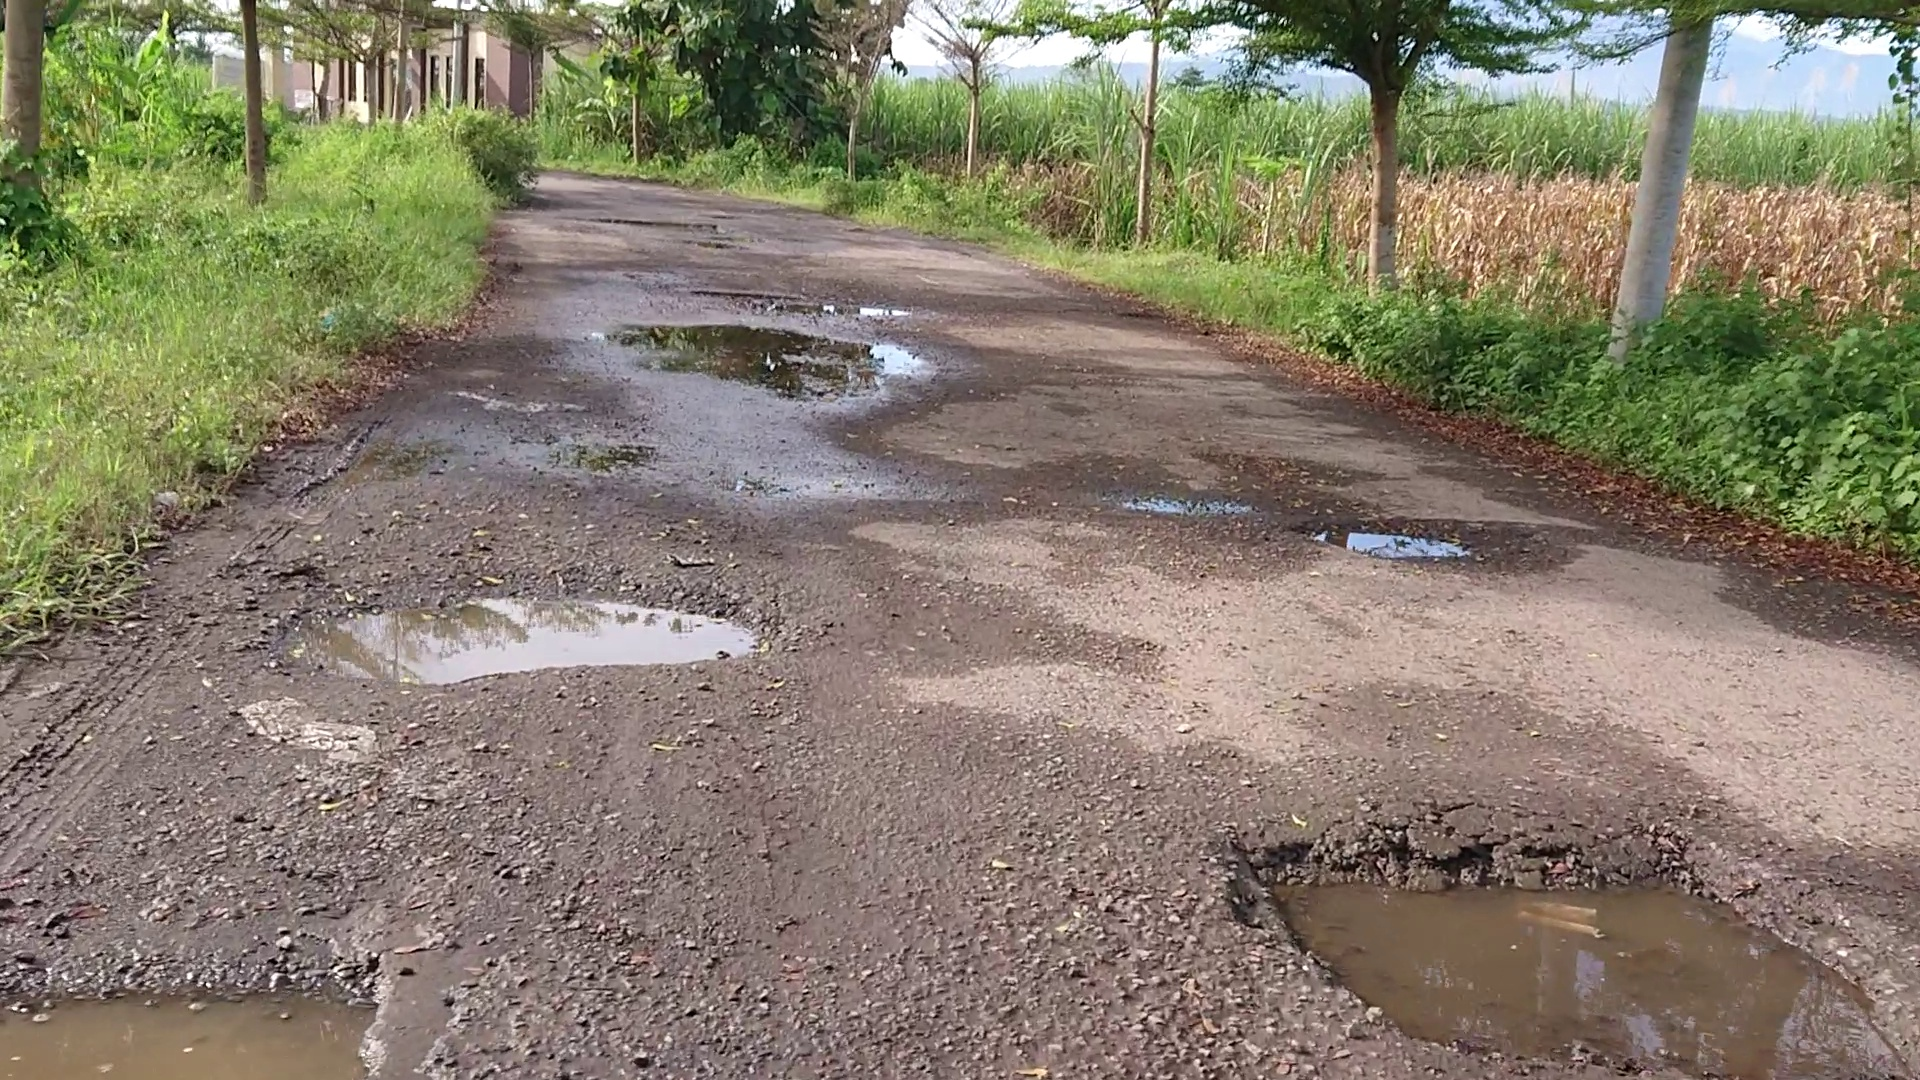Berlubang: (1238, 851, 1859, 1077), (265, 616, 769, 673), (616, 319, 923, 407), (1308, 517, 1503, 568)
